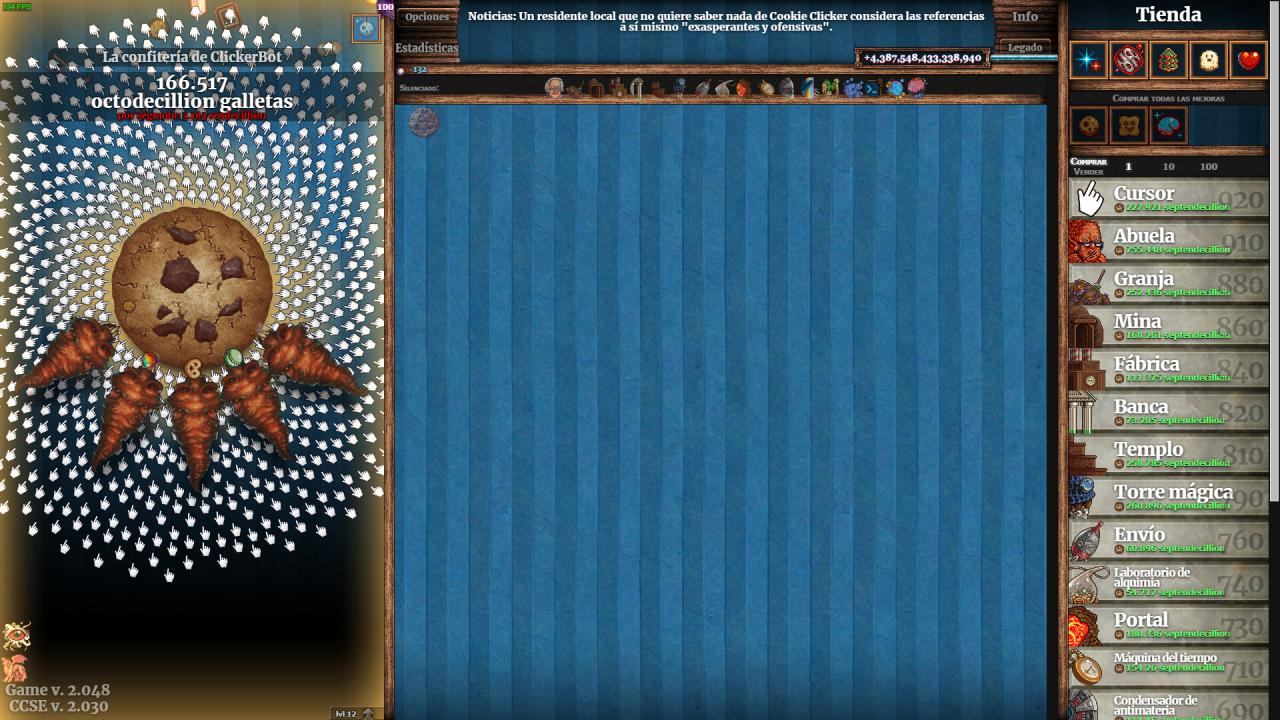RedCookie: (408, 106, 442, 140)
